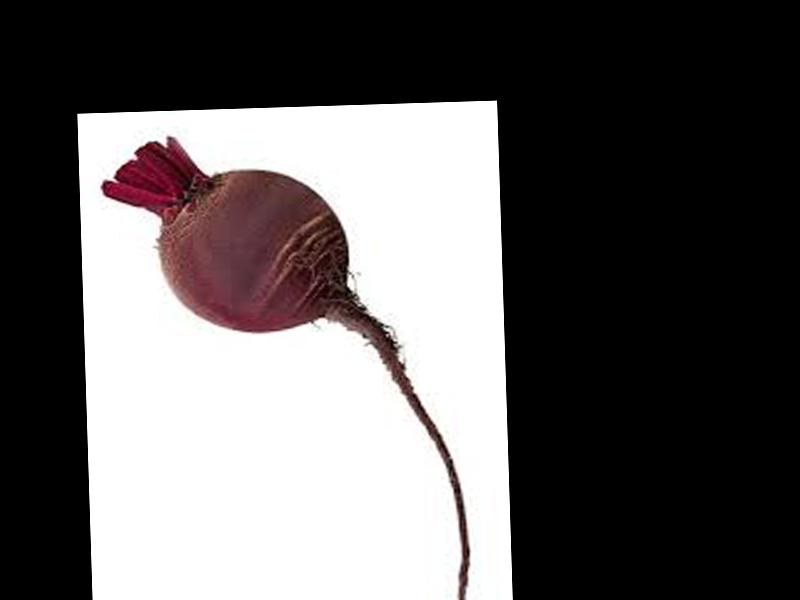Beet: (99, 130, 472, 600)
